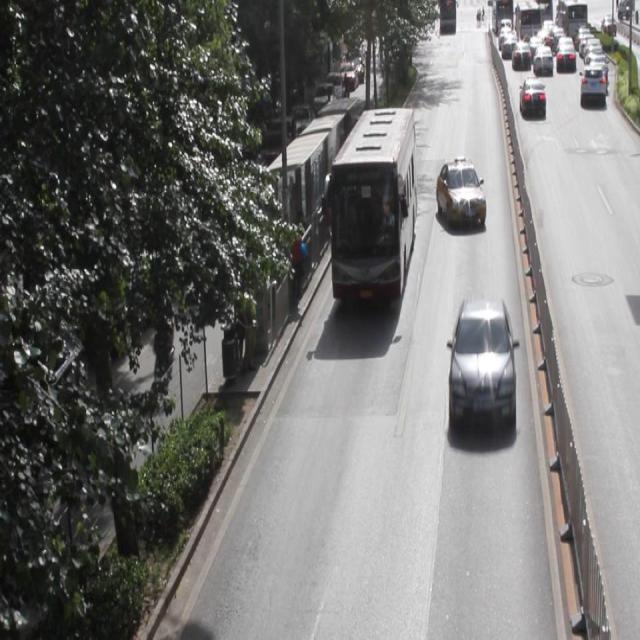car: (449, 294, 513, 428), (435, 159, 484, 231)
van: (330, 108, 415, 300)
